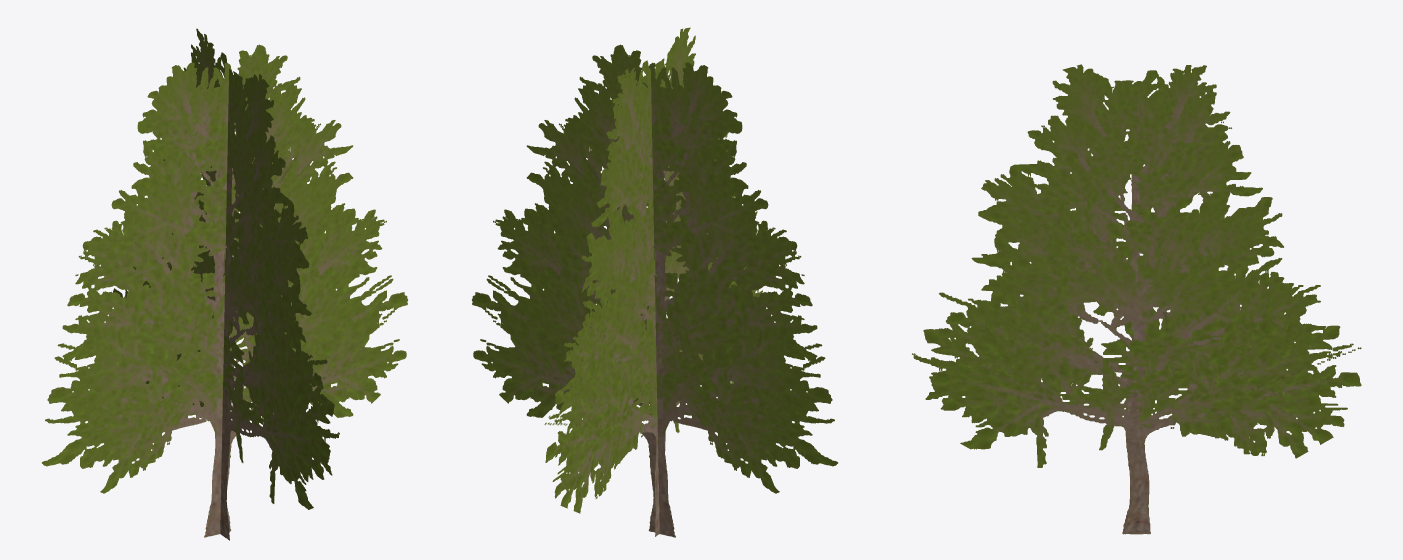
The model's file is oak2_LOD5.obj.
The picture shows the model from 3 angles, left to right: view 1: azimuth 30°, elevation 25°; view 2: azimuth 150°, elevation 25°; view 3: azimuth 270°, elevation 25°; orthographic projection.
Parts seen in each view (by area): view 1: tree; view 2: tree; view 3: tree.
Part boxes in pixels (x1,y1,x2,y2): tree: [42, 28, 407, 540]; tree: [472, 27, 837, 537]; tree: [912, 64, 1361, 534].
Size of the model in its own units: 771 by 913 by 812.
Materials: 1 (1 with a texture image).
